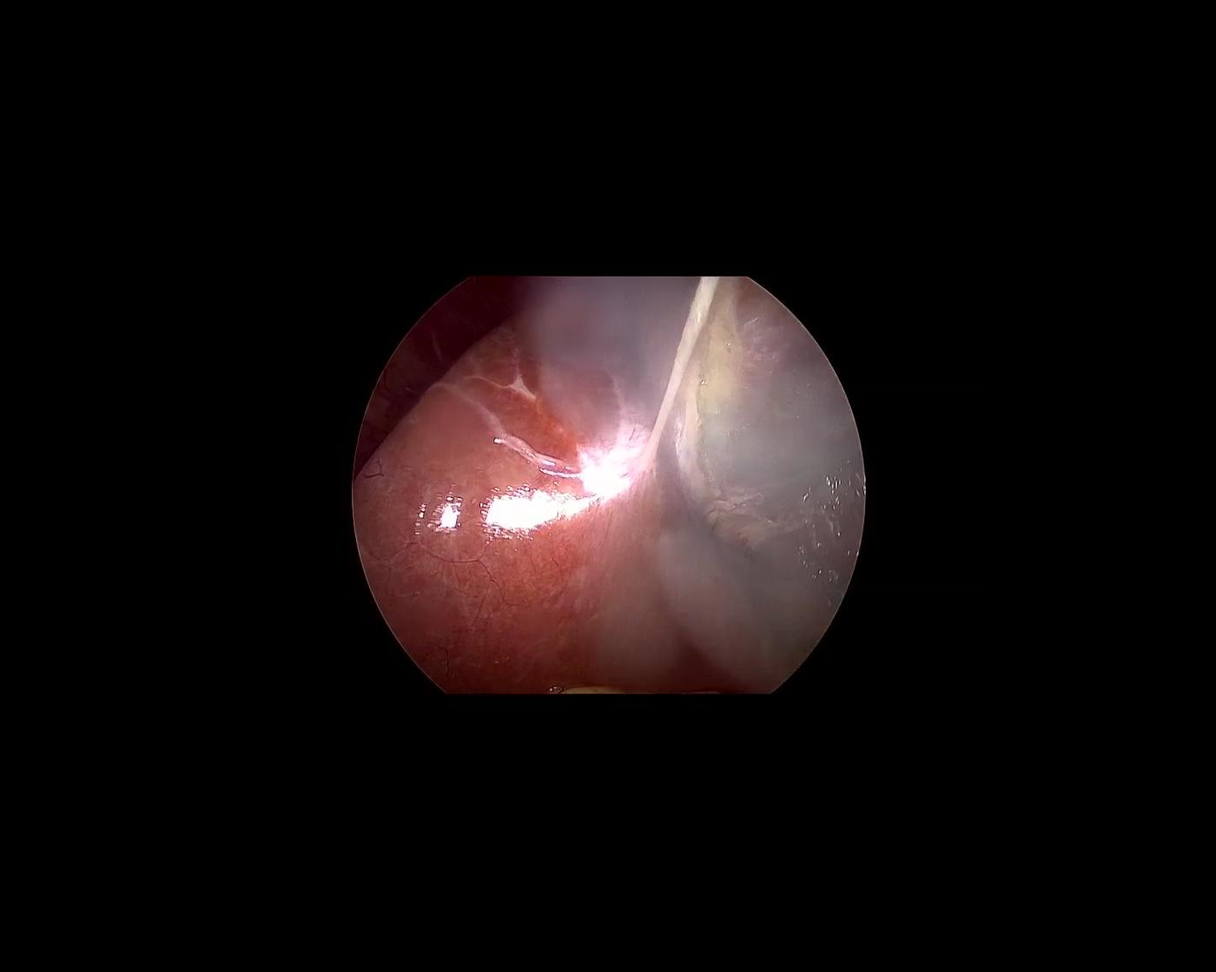Liver: (339, 265, 688, 723)
